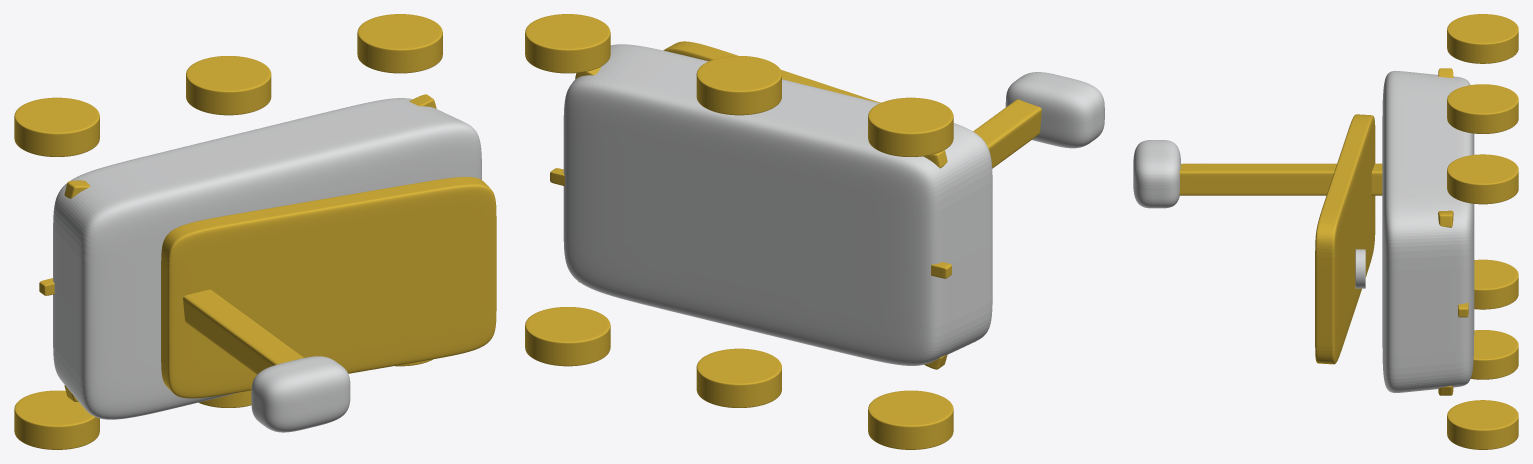
Rendered from lunar_rover_sq.glb.
3 views of the same model, side by side, from view 1: azimuth 30°, elevation 25°; view 2: azimuth 150°, elevation 25°; view 3: azimuth 270°, elevation 25° (orthographic). The views are drawn at different scales.
Visible parts, largest first — view 1: superquadric_1, superquadric_0, superquadric_3, superquadric_2, superquadric_10, superquadric_6, superquadric_8, superquadric_5, superquadric_7; view 2: superquadric_0, superquadric_3, superquadric_10, superquadric_5, superquadric_6, superquadric_8, superquadric_9, superquadric_7, superquadric_2, superquadric_1; view 3: superquadric_0, superquadric_1, superquadric_2, superquadric_10, superquadric_6, superquadric_9, superquadric_8, superquadric_3, superquadric_7, superquadric_5, superquadric_4.
Part boxes in pixels (bbox=[...]): superquadric_1: bbox=[161, 177, 496, 398]; superquadric_0: bbox=[53, 98, 481, 419]; superquadric_3: bbox=[251, 356, 350, 432]; superquadric_2: bbox=[183, 289, 303, 374]; superquadric_10: bbox=[357, 14, 442, 73]; superquadric_6: bbox=[14, 97, 99, 156]; superquadric_8: bbox=[186, 56, 271, 115]; superquadric_5: bbox=[14, 390, 99, 449]; superquadric_7: bbox=[198, 390, 251, 407]; superquadric_0: bbox=[563, 44, 992, 365]; superquadric_3: bbox=[1005, 72, 1104, 148]; superquadric_10: bbox=[525, 14, 610, 73]; superquadric_5: bbox=[868, 390, 953, 449]; superquadric_6: bbox=[868, 97, 953, 156]; superquadric_8: bbox=[696, 56, 781, 115]; superquadric_9: bbox=[525, 307, 610, 366]; superquadric_7: bbox=[696, 348, 781, 407]; superquadric_2: bbox=[973, 99, 1041, 168]; superquadric_1: bbox=[663, 41, 880, 102]; superquadric_0: bbox=[1382, 71, 1474, 392]; superquadric_1: bbox=[1315, 114, 1375, 364]; superquadric_2: bbox=[1179, 163, 1382, 195]; superquadric_10: bbox=[1447, 154, 1518, 204]; superquadric_6: bbox=[1447, 14, 1518, 63]; superquadric_9: bbox=[1447, 400, 1518, 449]; superquadric_8: bbox=[1447, 84, 1518, 133]; superquadric_3: bbox=[1133, 140, 1181, 208]; superquadric_7: bbox=[1470, 330, 1518, 379]; superquadric_5: bbox=[1474, 259, 1518, 309]; superquadric_4: bbox=[1355, 249, 1365, 288].
Size of the model in its own units: 1 by 0.7273 by 0.9546.
